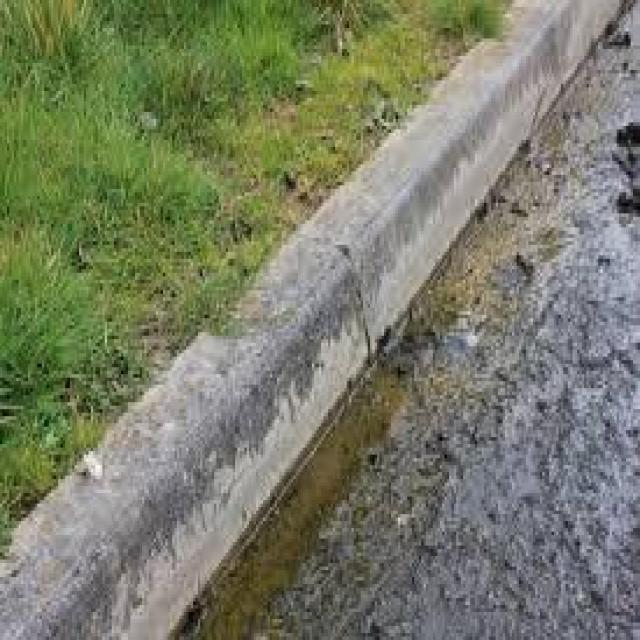curb: (1, 339, 330, 640), (234, 202, 468, 401), (346, 92, 527, 265), (486, 1, 634, 117)
